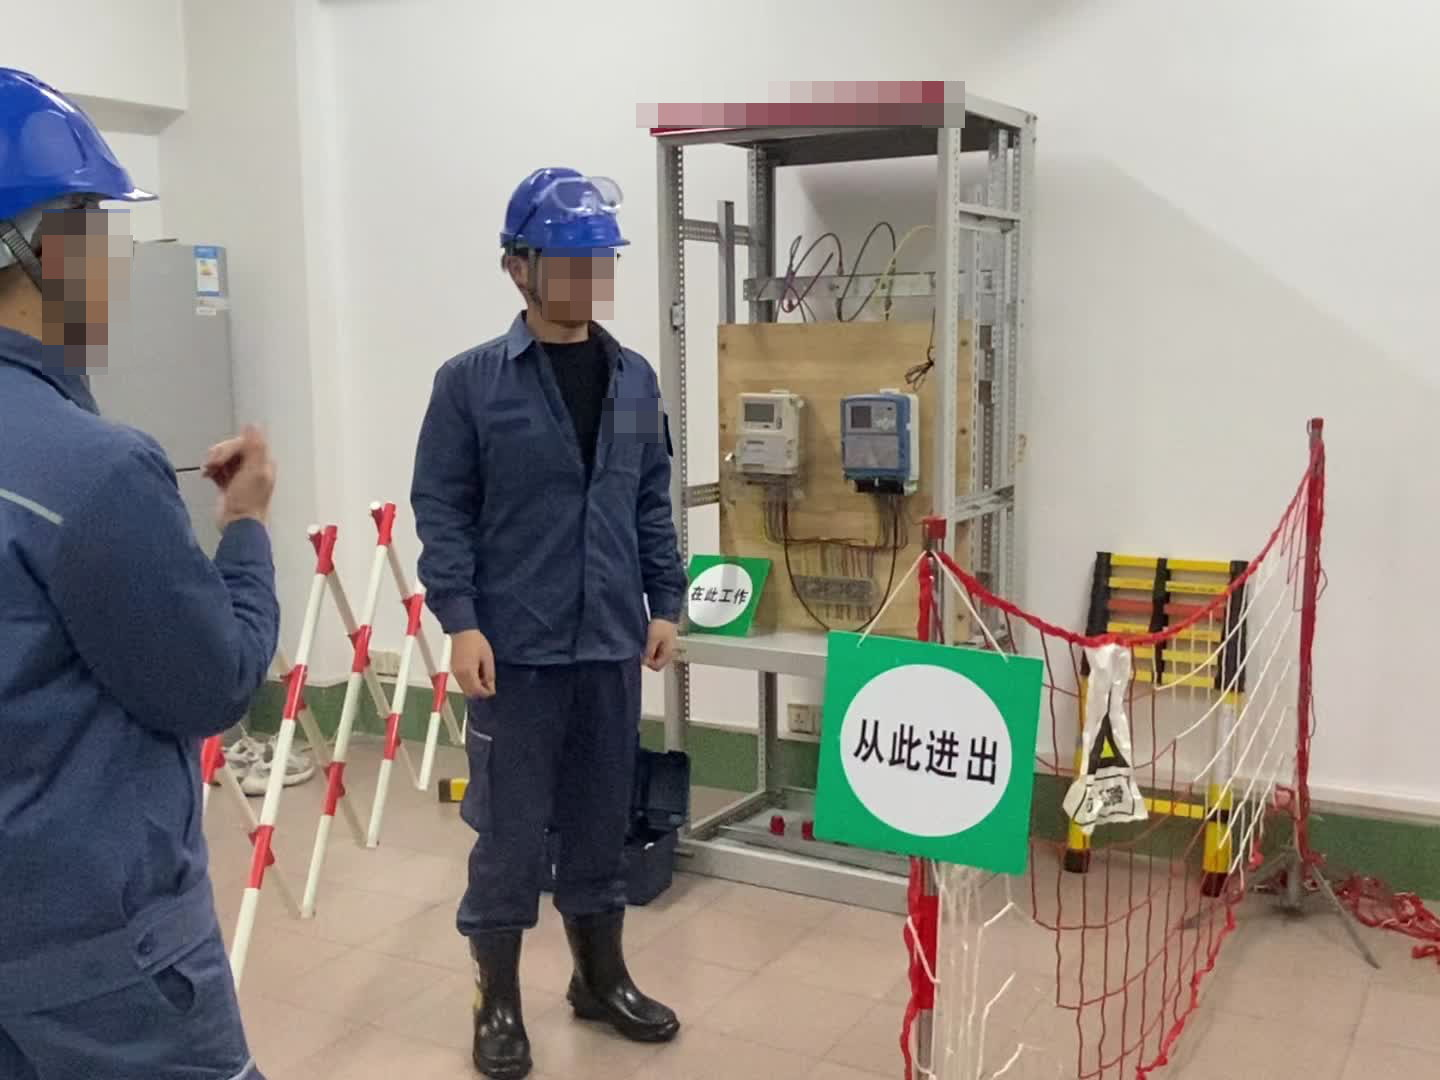downsuit: (450, 669, 650, 942)
halt: (1, 60, 151, 358), (494, 165, 633, 337)
hand: (193, 433, 279, 524), (446, 636, 500, 699), (641, 615, 688, 668)
inear: (3, 207, 100, 338), (503, 240, 542, 309)
intosign: (826, 628, 1040, 875)
person: (1, 36, 292, 1080), (404, 161, 698, 1072)
shoe: (565, 914, 684, 1042), (467, 935, 553, 1067)
upsuit: (1, 348, 290, 1016), (411, 328, 677, 667)
worksign: (684, 556, 762, 639)
wrongsuit: (528, 334, 644, 516)
